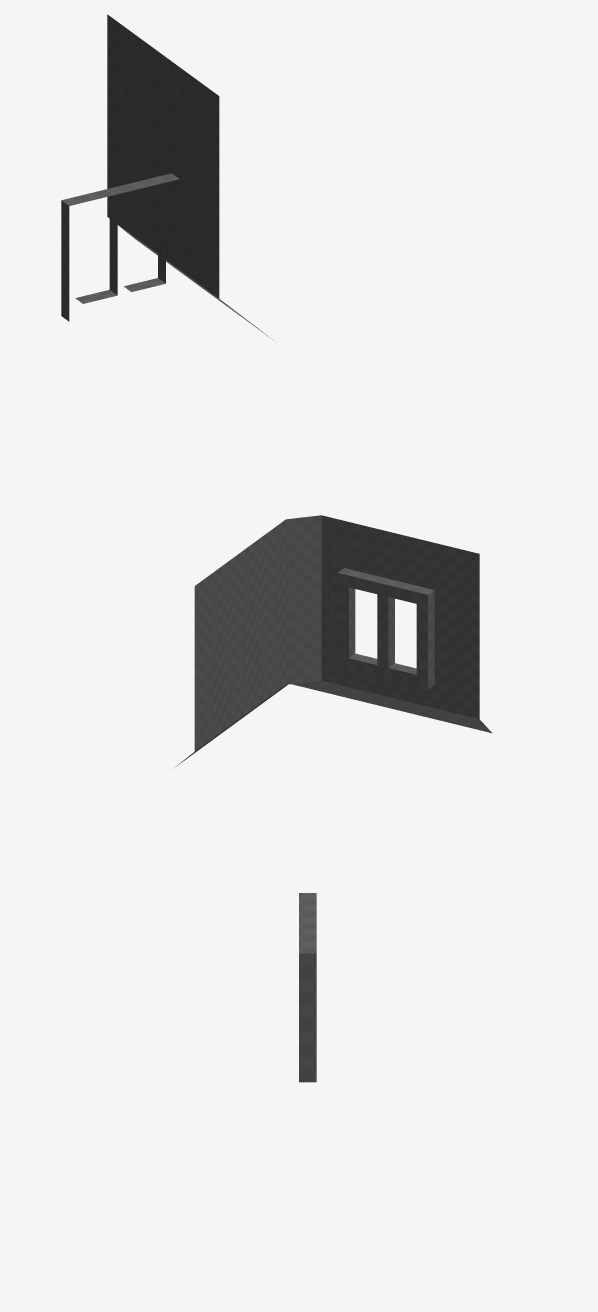
3 renders of one model, top to bottom at view 1: azimuth 30°, elevation 25°; view 2: azimuth 150°, elevation 25°; view 3: azimuth 270°, elevation 25°, orthographic. The views are drawn at different scales.
Parts seen in each view (by area): view 1: CubeDownBackRight2V1; view 2: CubeDownBackRight2V1; view 3: CubeDownBackRight2V1.
Part boxes in pixels (x1,y1,x2,y2): CubeDownBackRight2V1: (61,14,273,340); CubeDownBackRight2V1: (176,515,492,766); CubeDownBackRight2V1: (299,893,316,1082).
Bounding box in the file's own units: 4 × 2 × 4.
Materials: 1 (1 with a texture image).
